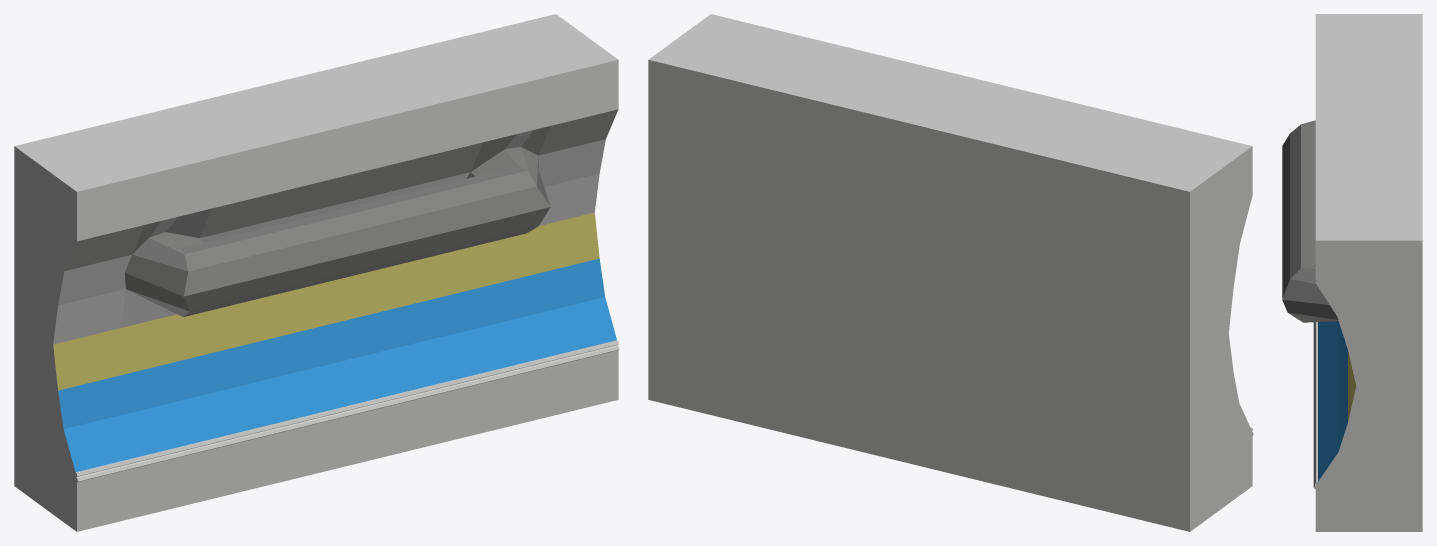
File: SM_Wall_Var2.fbx
The picture shows the model from 3 angles, left to right: view 1: azimuth 30°, elevation 25°; view 2: azimuth 150°, elevation 25°; view 3: azimuth 270°, elevation 25°; orthographic projection. The views are drawn at different scales.
Parts seen in each view (by area): view 1: SM_Wall_Edge_Var1.002; view 2: SM_Wall_Edge_Var1.002; view 3: SM_Wall_Edge_Var1.002.
Part boxes in pixels (x1,y1,x2,y2): SM_Wall_Edge_Var1.002: [14, 14, 619, 531]; SM_Wall_Edge_Var1.002: [648, 14, 1253, 531]; SM_Wall_Edge_Var1.002: [1282, 14, 1422, 531].
Bounding box in the file's own units: 1000 × 600 × 262.
